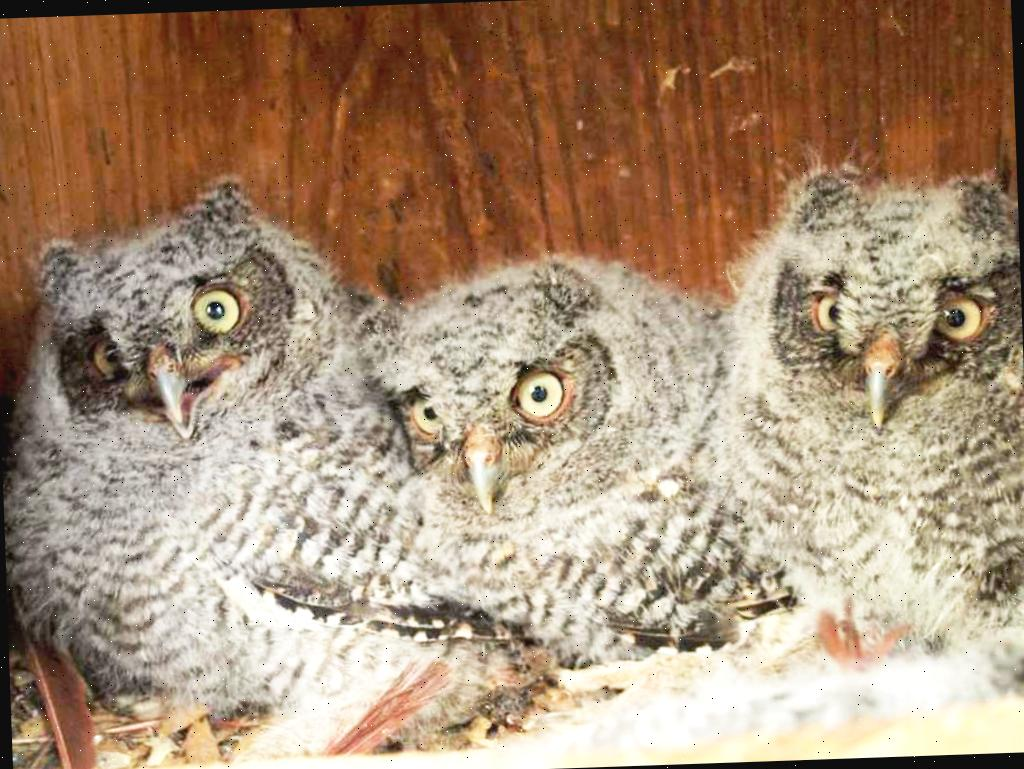Owl: (0, 163, 412, 726), (370, 254, 746, 672), (735, 162, 1022, 653)
